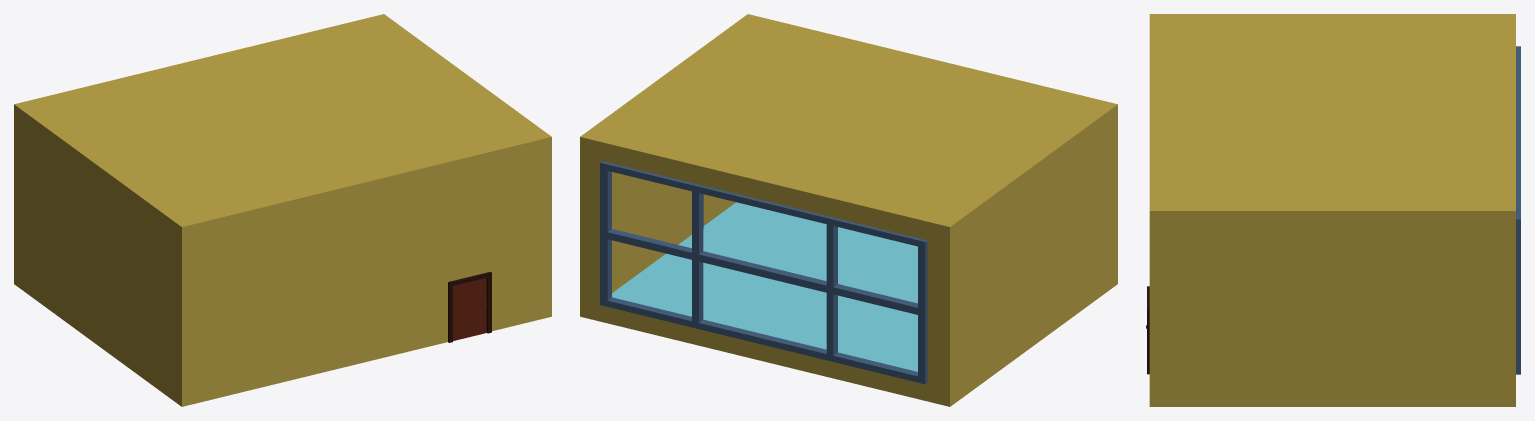
The model's file is canteen.fbx.
The picture shows the model from 3 angles, left to right: view 1: azimuth 30°, elevation 25°; view 2: azimuth 150°, elevation 25°; view 3: azimuth 270°, elevation 25°; orthographic projection. The views are drawn at different scales.
Visible parts, largest first — view 1: Plane001, Object001, Object002, Box003, Box002; view 2: Object001, Object002, Object004, Object003, Object006, Object005; view 3: Object001, Object005, Object006.
Boxes of the visible parts, left/top/right/bottom form: Plane001: left=182, top=137, right=551, bottom=406; Object001: left=14, top=14, right=551, bottom=226; Object002: left=14, top=104, right=181, bottom=406; Box003: left=453, top=278, right=486, bottom=340; Box002: left=448, top=271, right=491, bottom=342; Object001: left=580, top=14, right=1117, bottom=226; Object002: left=950, top=104, right=1117, bottom=406; Object004: left=612, top=202, right=917, bottom=371; Object003: left=580, top=137, right=949, bottom=406; Object006: left=600, top=161, right=927, bottom=384; Object005: left=612, top=172, right=735, bottom=292; Object001: left=1149, top=14, right=1515, bottom=210; Object005: left=1149, top=211, right=1515, bottom=406; Object006: left=1516, top=46, right=1520, bottom=374.
Size of the model in its own units: 140 by 65 by 113.
